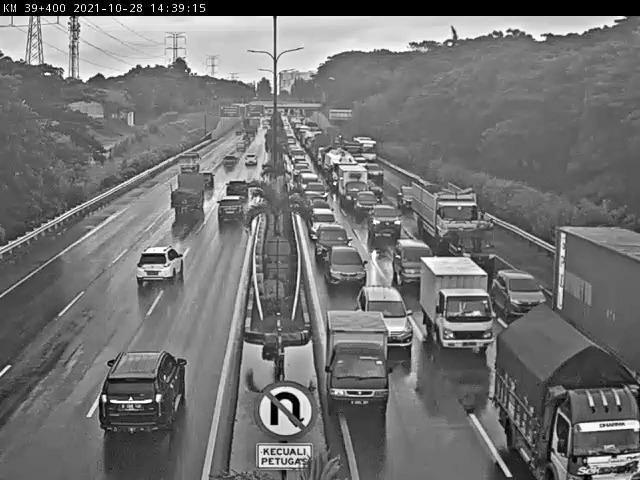big truck: (539, 211, 640, 404), (407, 174, 478, 247)
car: (87, 344, 203, 437), (357, 271, 425, 353), (489, 264, 552, 330), (127, 244, 190, 292), (322, 242, 369, 290), (442, 222, 493, 265), (388, 234, 431, 285), (315, 222, 353, 266), (213, 194, 254, 228), (367, 203, 403, 238), (220, 178, 259, 206), (216, 154, 238, 175), (242, 152, 262, 171)
mid truck: (469, 283, 635, 480), (410, 250, 492, 356), (159, 164, 215, 225)
small truck: (315, 295, 397, 407), (176, 150, 210, 176)
